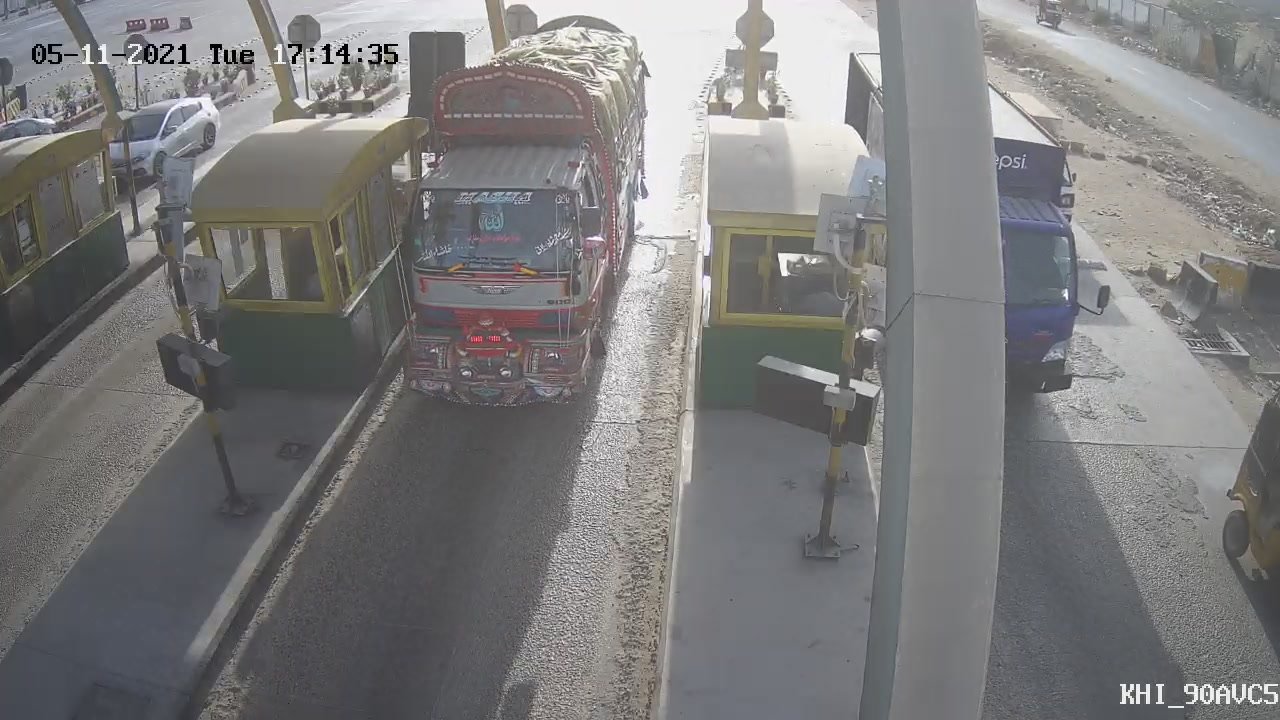F5: (368, 5, 669, 442)
